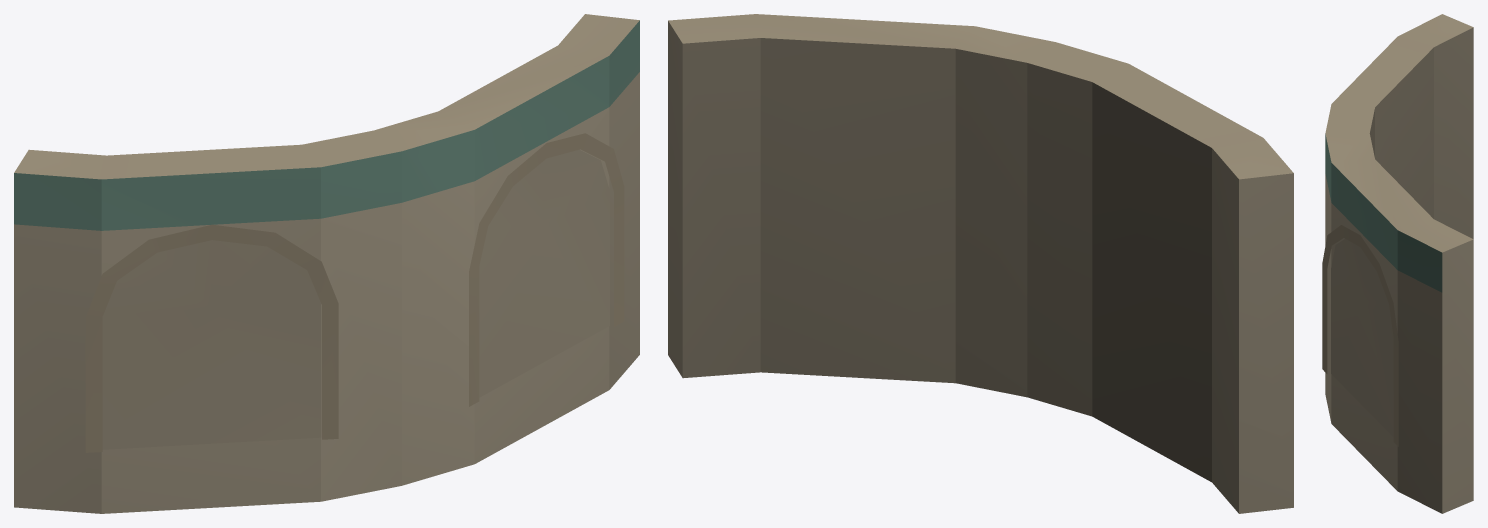
File: dome.drum_solid.copper.glb
3 views of the same model, side by side, from view 1: azimuth 30°, elevation 25°; view 2: azimuth 150°, elevation 25°; view 3: azimuth 270°, elevation 25° (orthographic). The views are drawn at different scales.
Visible parts, largest first — view 1: dome_drum_solid_copper; view 2: dome_drum_solid_copper; view 3: dome_drum_solid_copper.
Part boxes in pixels (x1,y1,x2,y2): dome_drum_solid_copper: (14, 14, 639, 513); dome_drum_solid_copper: (668, 14, 1293, 513); dome_drum_solid_copper: (1322, 14, 1473, 513).
Size of what is drawn, in the model's own units: 5.09 by 2.6 by 1.37.
